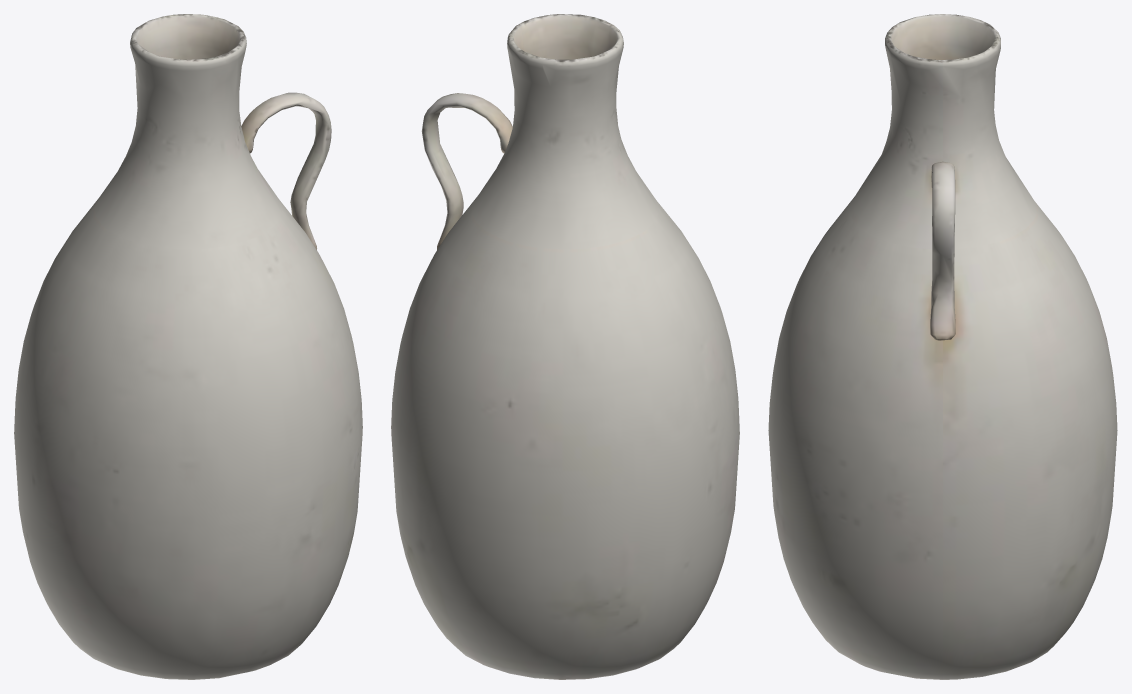
File: ceramic_vase_04.glb
3 views of the same model, side by side, from view 1: azimuth 30°, elevation 25°; view 2: azimuth 150°, elevation 25°; view 3: azimuth 270°, elevation 25° (orthographic).
Parts seen in each view (by area): view 1: ceramic_vase_04; view 2: ceramic_vase_04; view 3: ceramic_vase_04.
Part boxes in pixels (x1,y1,x2,y2): ceramic_vase_04: (14,14,362,679); ceramic_vase_04: (391,14,739,679); ceramic_vase_04: (768,14,1117,679).
Bounding box in the file's own units: 0.1811 × 0.3419 × 0.1811.
Materials: 1 (1 with a texture image).
